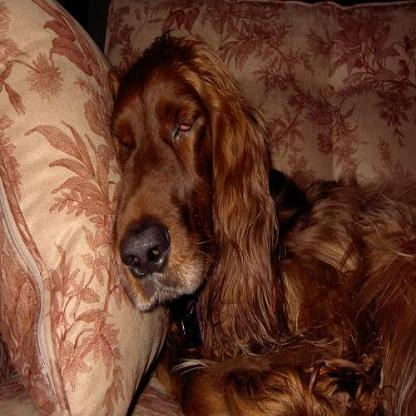Irish_setter: (105, 26, 414, 414)
